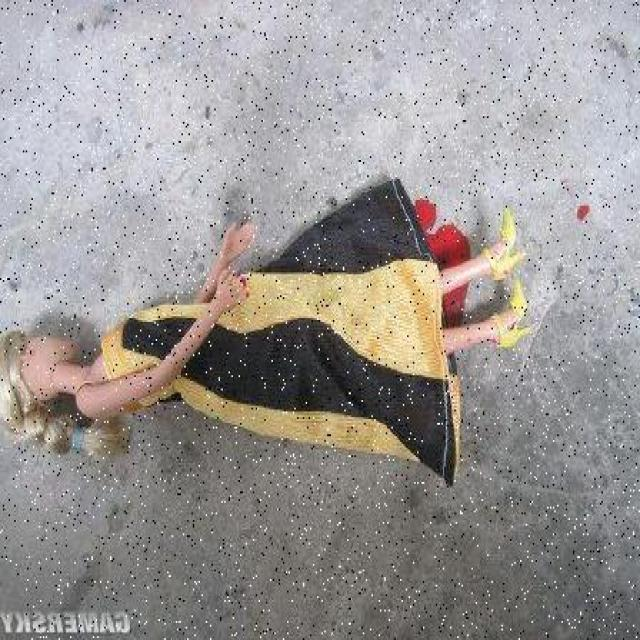fall: (1, 170, 528, 458)
